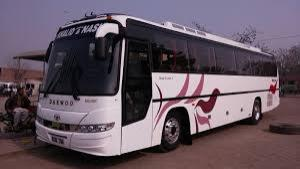bus: (34, 14, 280, 156)
